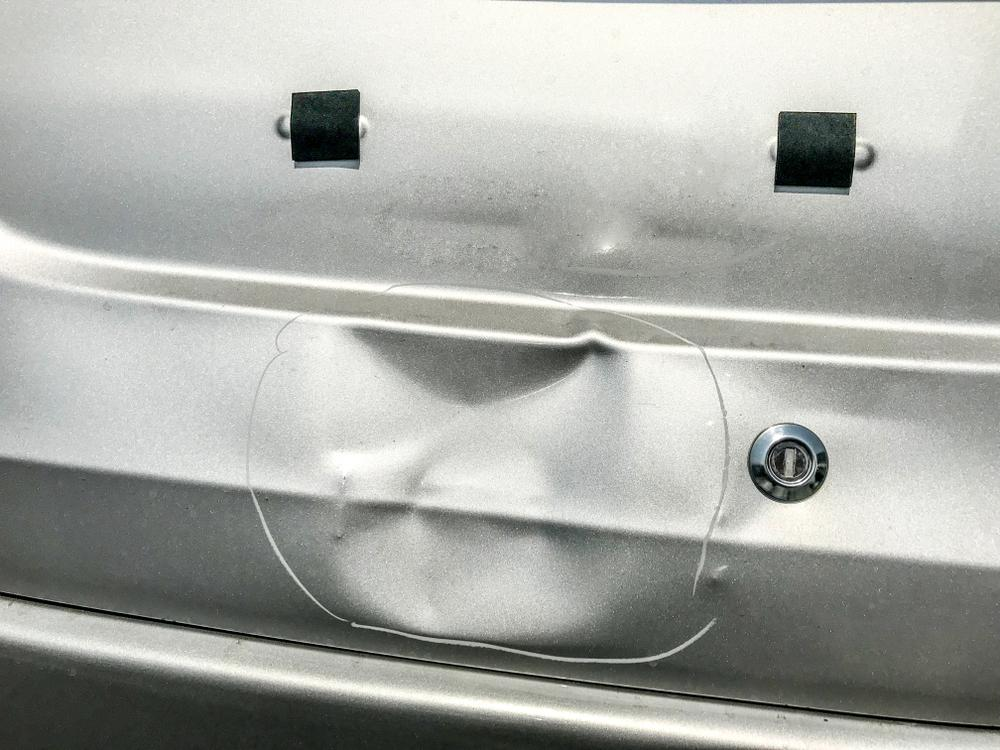dent: (318, 324, 647, 644)
